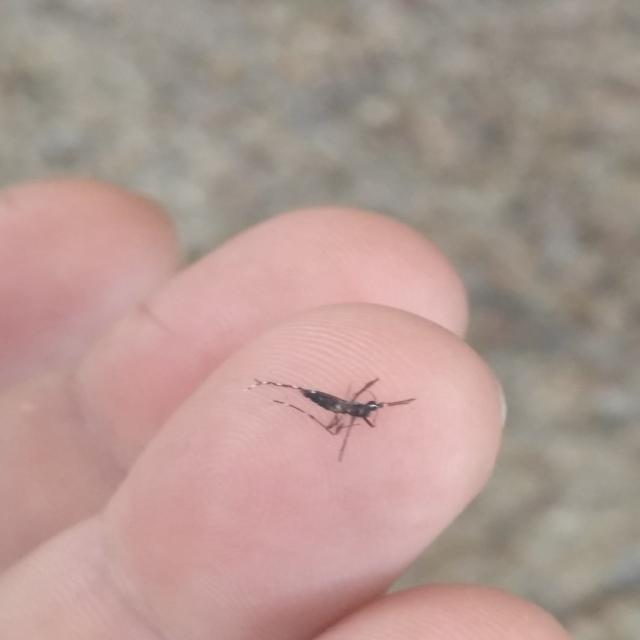albopictus: (243, 364, 418, 462)
